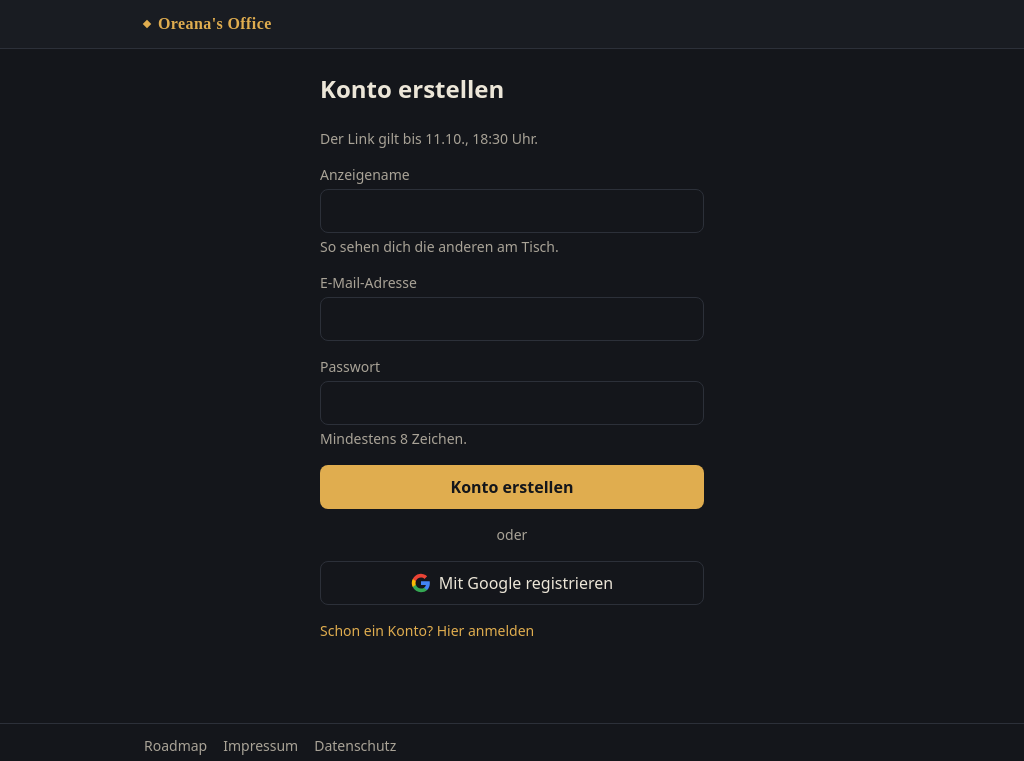
Test: InvitePage › registers through a valid link and lands on the home page
The image size is (1024, 761).
In the field labelled "Anzeigename": (512, 211) [320, 189, 704, 233], type "  Mira "
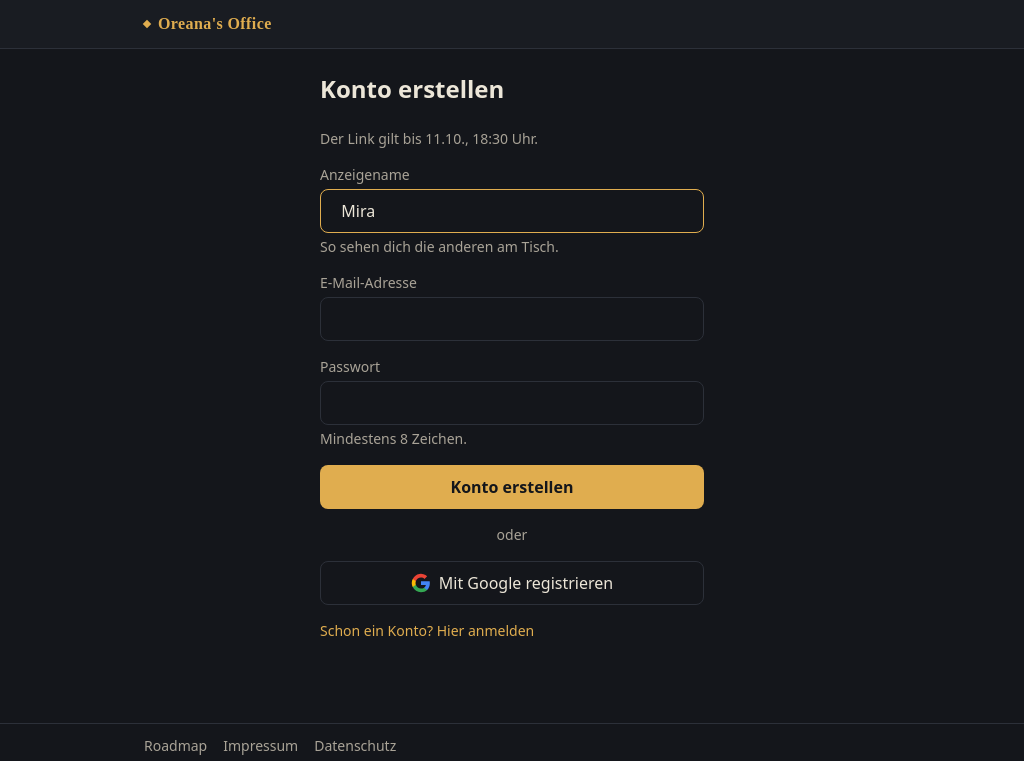
In the field labelled "E-Mail-Adresse": (512, 319) [320, 297, 704, 341], type "mira@example.org"
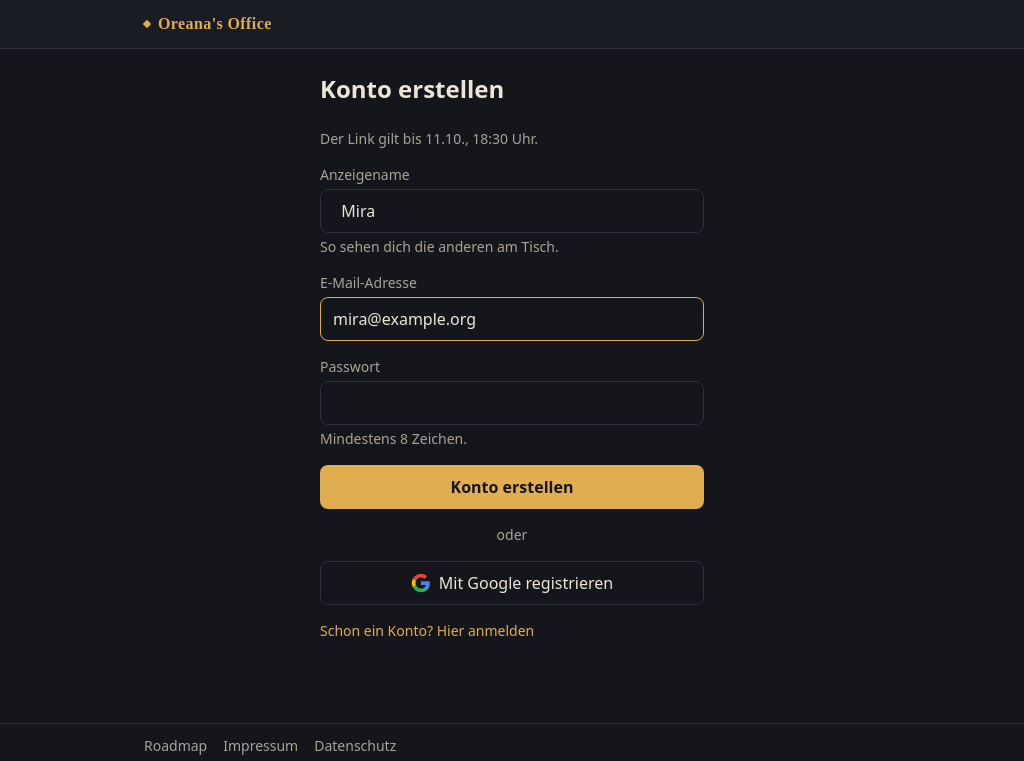
In the password field labelled "Passwort": (512, 403) [320, 381, 704, 425], type "geheim123"
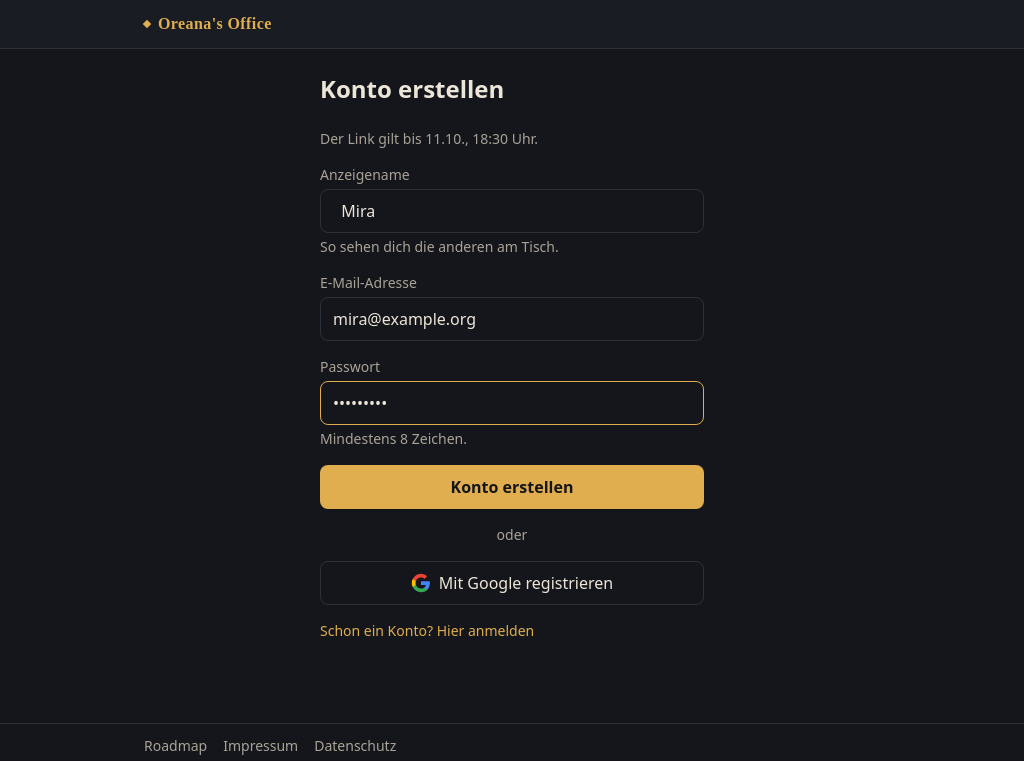
Click the button "Konto erstellen": (512, 487) [320, 465, 704, 509]
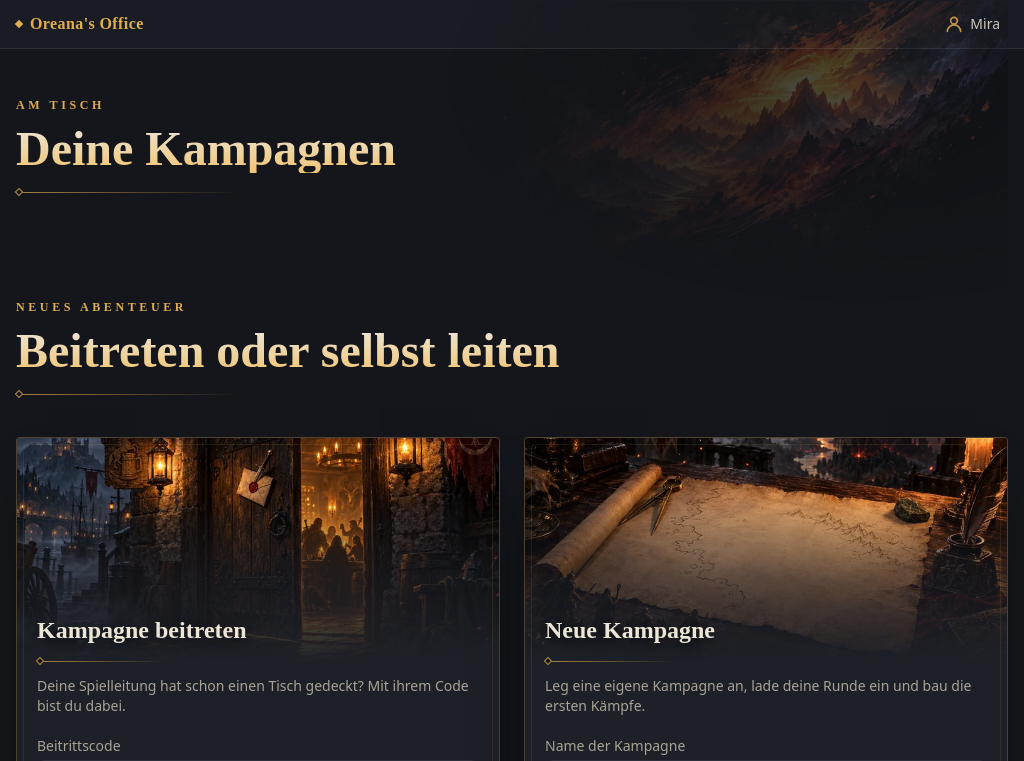
Now the heading "Deine Kampagnen" is shown, box [16, 125, 1008, 173]
